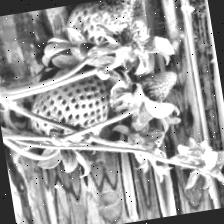Powdery Mildew Fruit: (84, 0, 151, 33)
